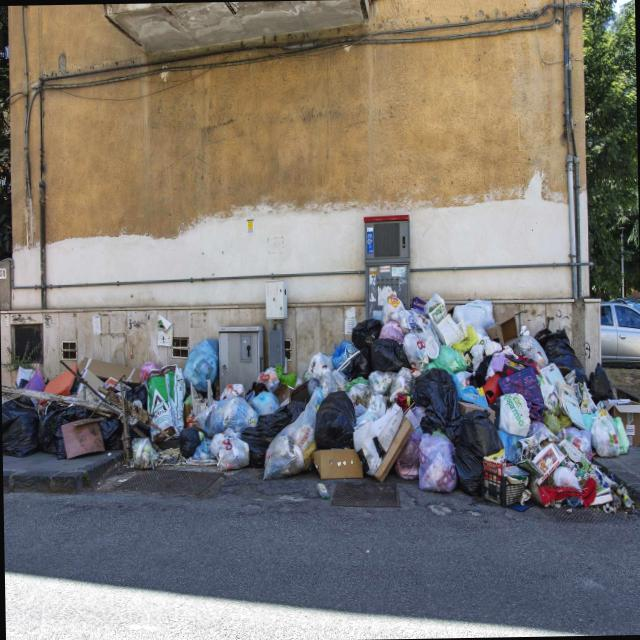garbage: (9, 287, 640, 531)
